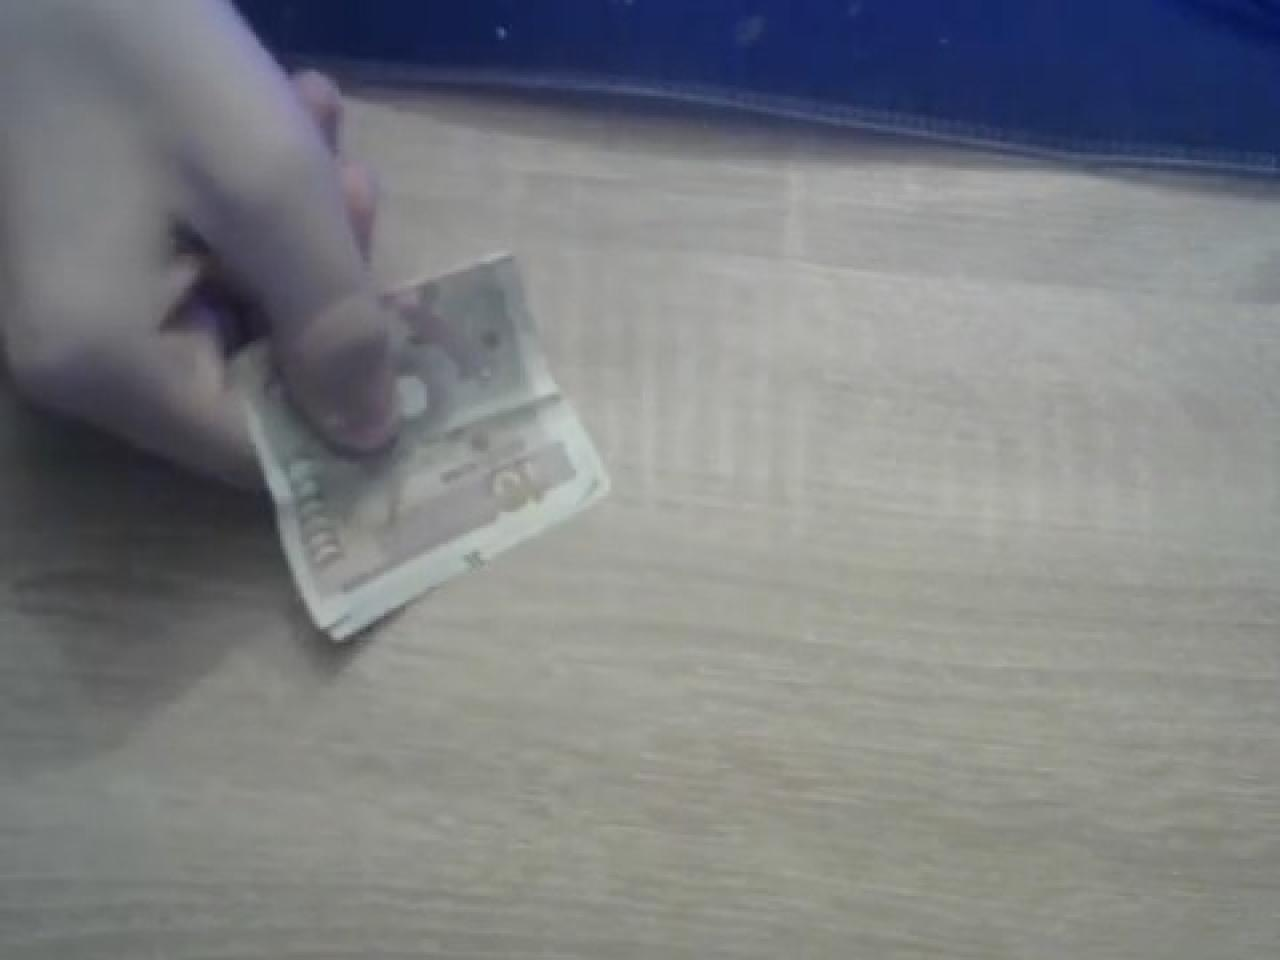10leva: (224, 248, 611, 645)
